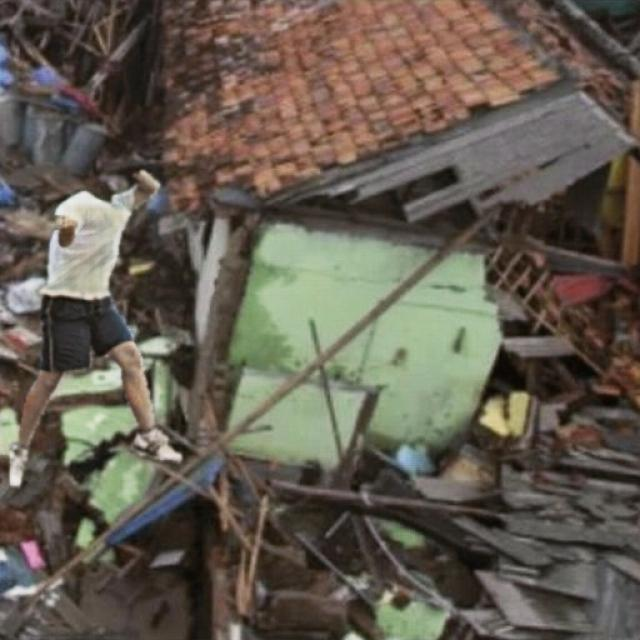Person in Rubble: (10, 170, 181, 486)
